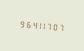four: (29, 18, 34, 30)
nine: (17, 17, 22, 29)
one: (41, 19, 46, 31), (35, 19, 40, 30)
seven: (47, 20, 52, 31), (59, 21, 64, 32)
six: (23, 18, 28, 29)
zero: (53, 21, 58, 32)
